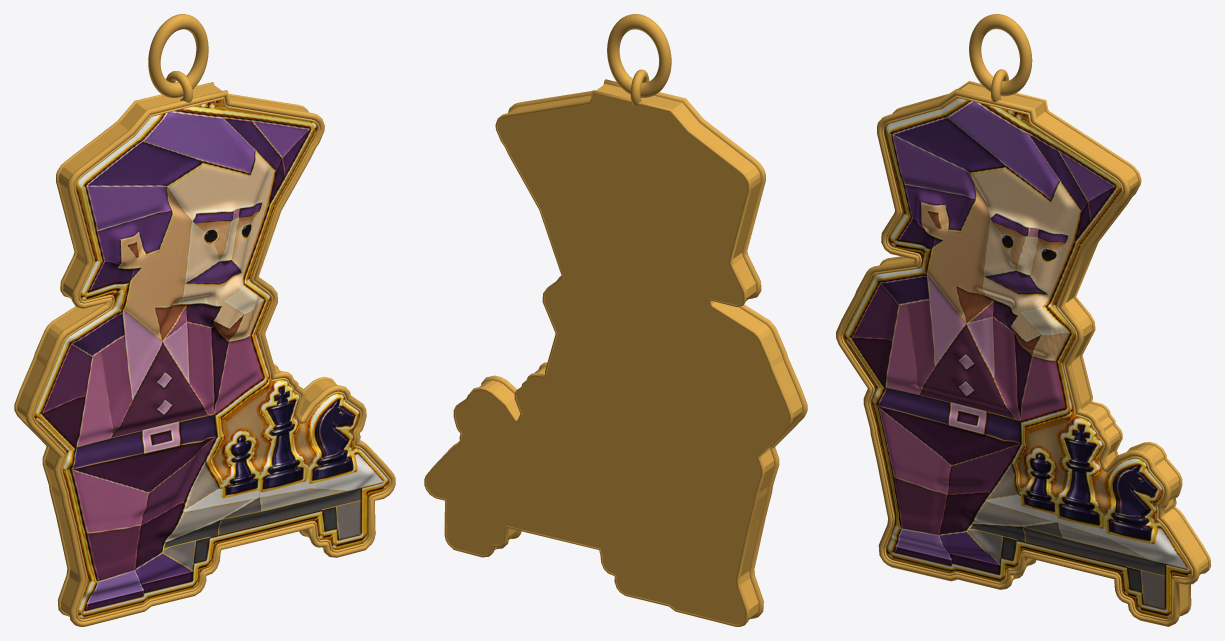
File: 02_thinker.glb
3 renders of one model, left to right at view 1: azimuth 30°, elevation 25°; view 2: azimuth 150°, elevation 25°; view 3: azimuth 330°, elevation 25°, orthographic. The views are drawn at different scales.
Visible parts, largest first — view 1: 02_thinker | sculpted enamel on solid metal, 02_thinker | rounded cast gold outer rim, 02_thinker | fine inner gold bezel, 02_thinker | rounded gold rear edge, 02_thinker | oval gold jump ring; view 2: 02_thinker | sculpted enamel on solid metal, 02_thinker | rounded gold rear edge, 02_thinker | rounded cast gold outer rim, 02_thinker | oval gold jump ring; view 3: 02_thinker | sculpted enamel on solid metal, 02_thinker | rounded cast gold outer rim, 02_thinker | fine inner gold bezel, 02_thinker | rounded gold rear edge, 02_thinker | oval gold jump ring.
Boxes of the visible parts, box(x1,y1,x2,y2) form: 02_thinker | sculpted enamel on solid metal: box(17, 84, 388, 619); 02_thinker | rounded cast gold outer rim: box(26, 90, 395, 626); 02_thinker | fine inner gold bezel: box(32, 97, 390, 621); 02_thinker | rounded gold rear edge: box(14, 82, 335, 615); 02_thinker | oval gold jump ring: box(148, 14, 208, 98); 02_thinker | sculpted enamel on solid metal: box(426, 83, 802, 624); 02_thinker | rounded gold rear edge: box(424, 90, 792, 626); 02_thinker | rounded cast gold outer rim: box(458, 79, 807, 618); 02_thinker | oval gold jump ring: box(607, 14, 671, 97); 02_thinker | sculpted enamel on solid metal: box(843, 83, 1207, 618); 02_thinker | rounded cast gold outer rim: box(836, 89, 1199, 626); 02_thinker | fine inner gold bezel: box(840, 95, 1192, 621); 02_thinker | rounded gold rear edge: box(880, 81, 1210, 615); 02_thinker | oval gold jump ring: box(969, 14, 1032, 96).
Size of the model in its own units: 0.0398 by 0.06 by 0.00426.
2 materials, 1 textured.
